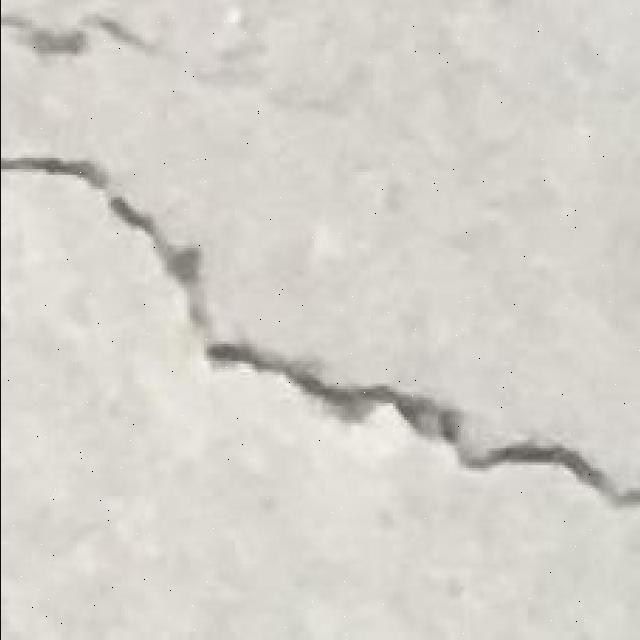crack: (2, 152, 637, 510), (2, 4, 320, 117), (9, 154, 206, 320), (284, 151, 446, 263), (0, 165, 78, 354), (549, 175, 640, 317), (467, 163, 591, 252), (4, 10, 157, 61), (60, 523, 126, 579), (3, 155, 104, 187)
